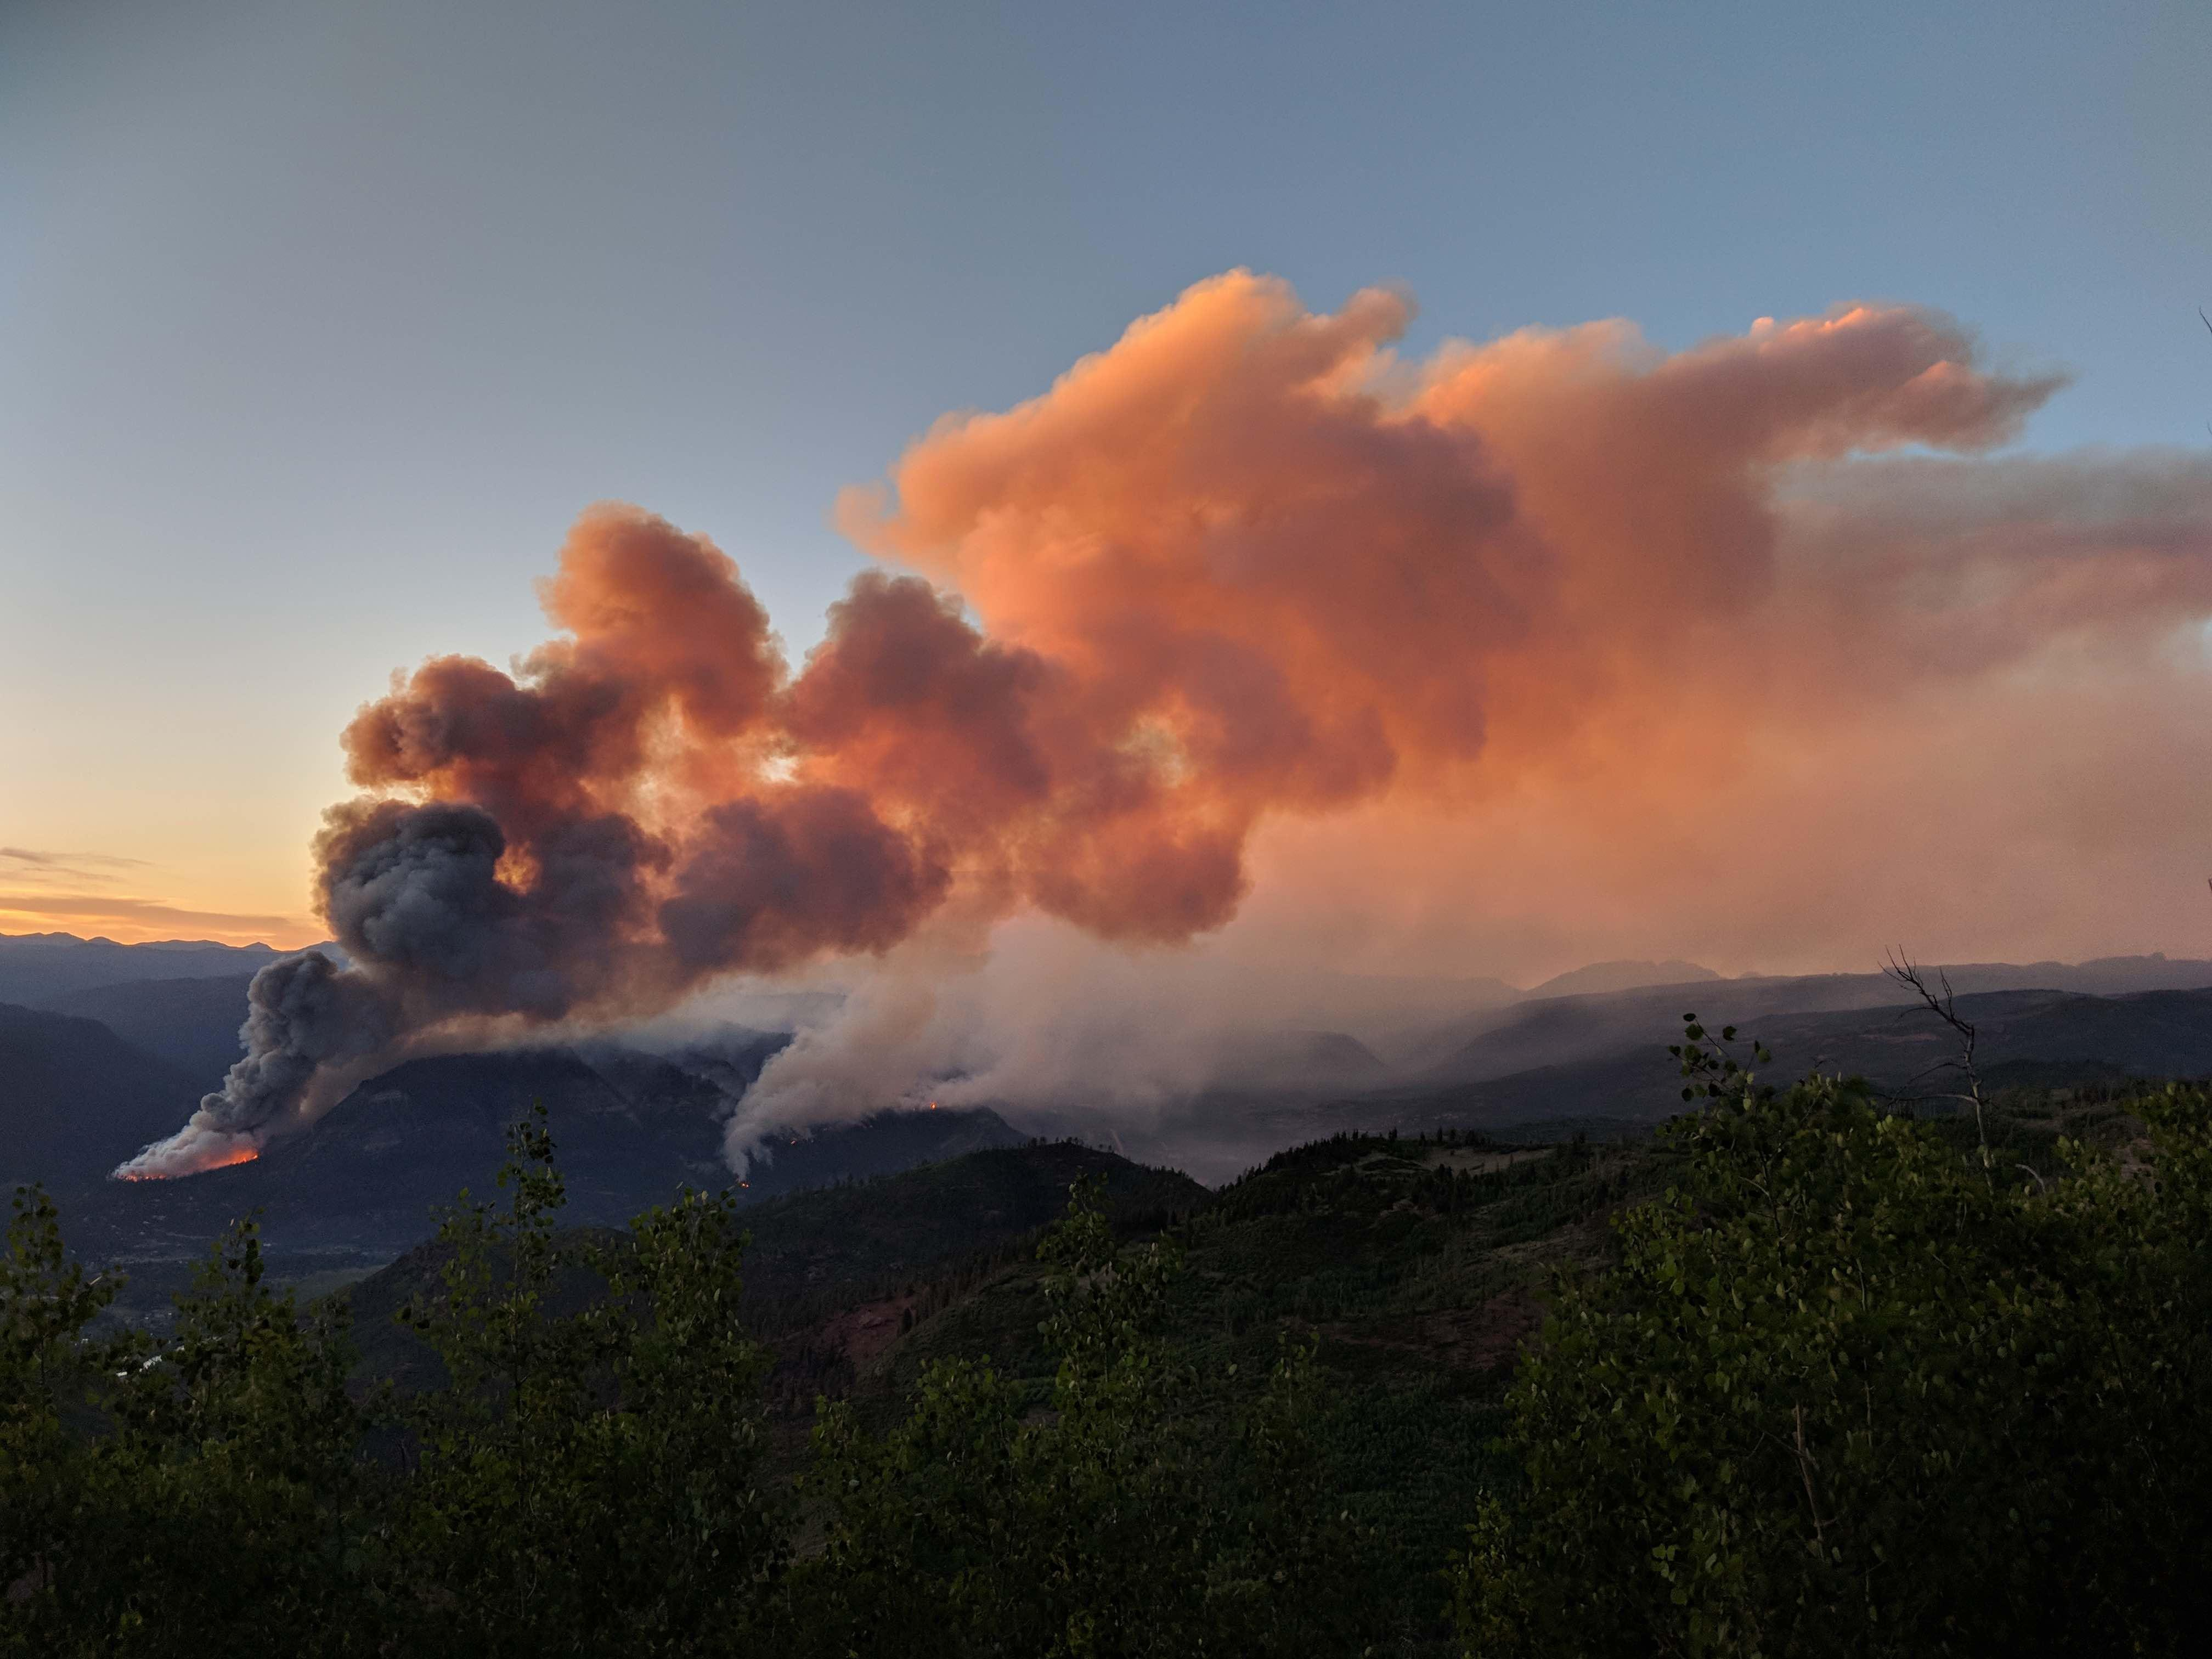smoke: (103, 295, 2078, 1192), (712, 592, 2186, 1180)
